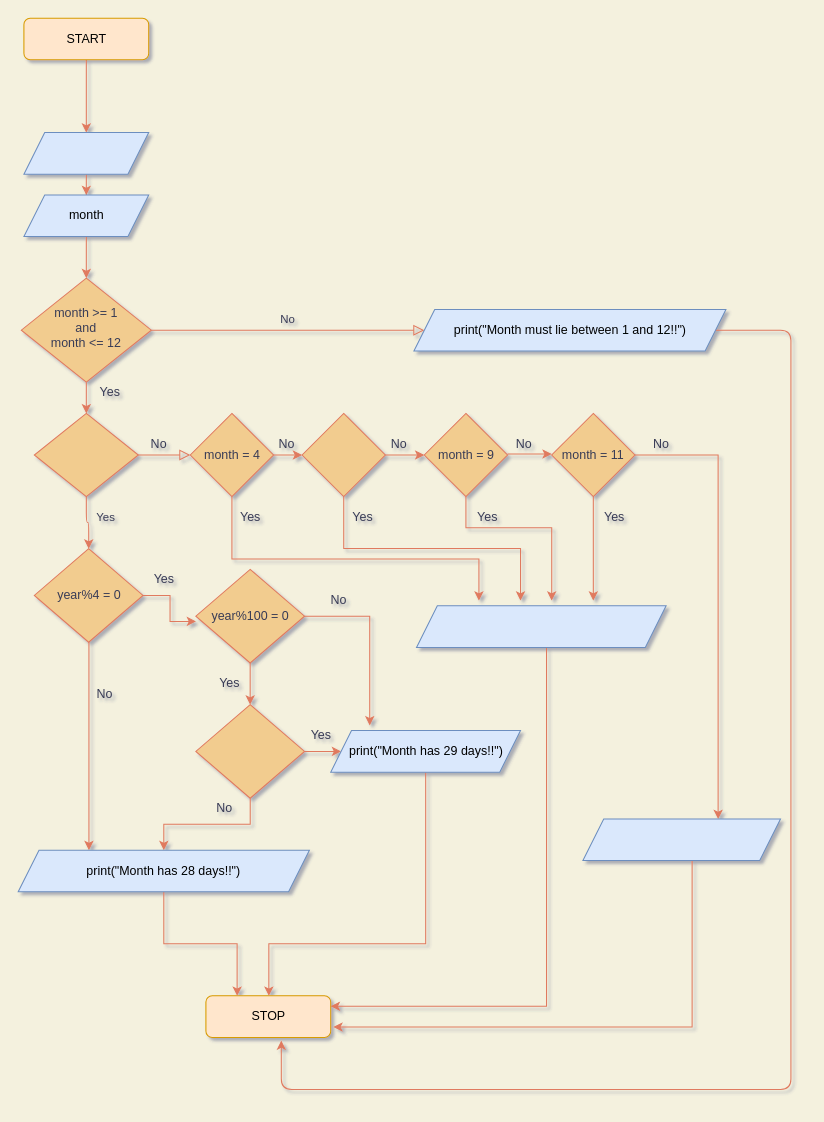
Image size: 824x1122. Some labels were removed from this diagram. Here are the shapes that lost their labels. From the top down, the centre of each, then its label:
the point at 86,153: year
the point at 85,454: month = 2
the point at 343,454: month = 6
the point at 540,626: print("Month has 30 day!!")
the point at 250,751: year%400 = 0
the point at 681,839: print("Month has 31 days!!")
